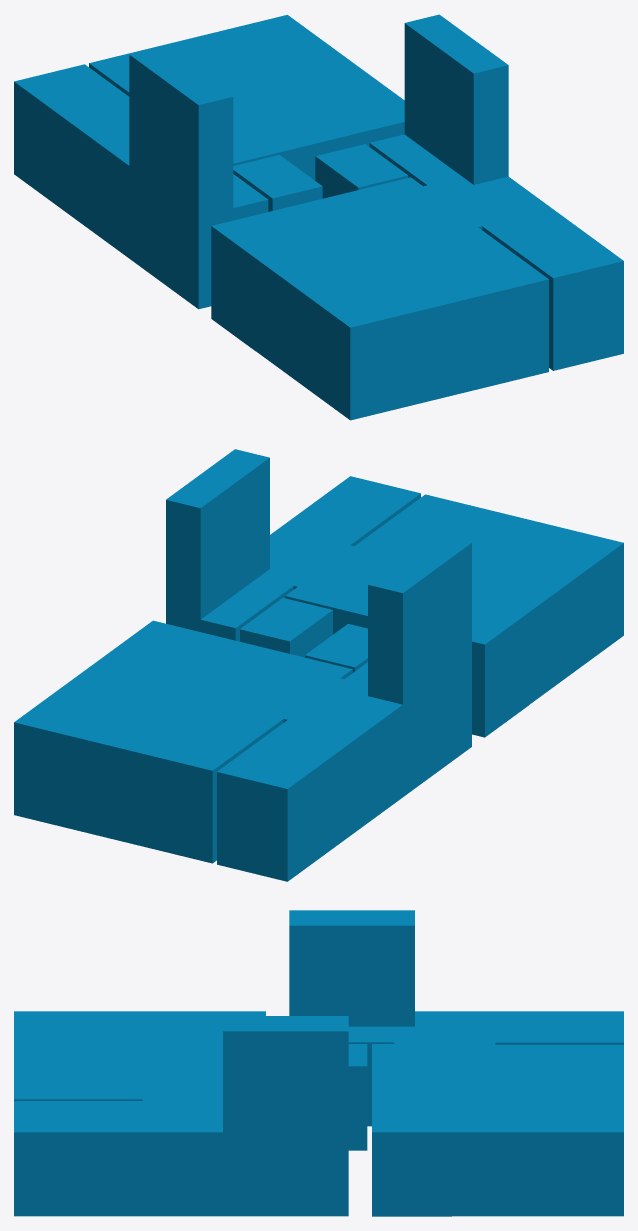
The model's file is Duplex_Level_1_IfcSpace.dae.
The picture shows the model from 3 angles, top to bottom: view 1: azimuth 30°, elevation 25°; view 2: azimuth 150°, elevation 25°; view 3: azimuth 270°, elevation 25°; orthographic projection. The views are drawn at different scales.
Parts seen in each view (by area): view 1: 0BTBFw6f90Nfh9rP1dlXr2, 10mjSDZJj9gPS2PrQaxa4o, 0BTBFw6f90Nfh9rP1dlXrr, 0BTBFw6f90Nfh9rP1dl_3Q, 10mjSDZJj9gPS2PrQaxa3z, 0BTBFw6f90Nfh9rP1dl_CZ, 0BTBFw6f90Nfh9rP1dlXr$, 0BTBFw6f90Nfh9rP1dl_3S, 0BTBFw6f90Nfh9rP1dlXru, 0BTBFw6f90Nfh9rP1dl_3P; view 2: 0BTBFw6f90Nfh9rP1dl_CZ, 0BTBFw6f90Nfh9rP1dl_3Q, 0BTBFw6f90Nfh9rP1dlXr2, 10mjSDZJj9gPS2PrQaxa4o, 10mjSDZJj9gPS2PrQaxa3z, 0BTBFw6f90Nfh9rP1dlXrr, 0BTBFw6f90Nfh9rP1dlXr$, 0BTBFw6f90Nfh9rP1dl_3S, 0BTBFw6f90Nfh9rP1dlXru, 0BTBFw6f90Nfh9rP1dl_3P; view 3: 0BTBFw6f90Nfh9rP1dl_CZ, 10mjSDZJj9gPS2PrQaxa3z, 0BTBFw6f90Nfh9rP1dlXrr, 0BTBFw6f90Nfh9rP1dlXr2, 10mjSDZJj9gPS2PrQaxa4o, 0BTBFw6f90Nfh9rP1dl_3S, 0BTBFw6f90Nfh9rP1dl_3Q, 0BTBFw6f90Nfh9rP1dlXr$, 0BTBFw6f90Nfh9rP1dl_3P.
Boxes of the visible parts, box(x1,y1,x2,y2) form: 0BTBFw6f90Nfh9rP1dlXr2: box(255, 210, 548, 420); 10mjSDZJj9gPS2PrQaxa4o: box(124, 46, 233, 309); 0BTBFw6f90Nfh9rP1dlXrr: box(369, 134, 623, 370); 0BTBFw6f90Nfh9rP1dl_3Q: box(14, 64, 268, 254); 10mjSDZJj9gPS2PrQaxa3z: box(404, 14, 513, 188); 0BTBFw6f90Nfh9rP1dl_CZ: box(89, 15, 381, 120); 0BTBFw6f90Nfh9rP1dlXr$: box(211, 177, 454, 350); 0BTBFw6f90Nfh9rP1dl_3S: box(233, 84, 404, 180); 0BTBFw6f90Nfh9rP1dlXru: box(315, 144, 408, 198); 0BTBFw6f90Nfh9rP1dl_3P: box(233, 155, 322, 211); 0BTBFw6f90Nfh9rP1dl_CZ: box(14, 653, 306, 863); 0BTBFw6f90Nfh9rP1dl_3Q: box(217, 662, 397, 881); 0BTBFw6f90Nfh9rP1dlXr2: box(331, 494, 623, 704); 10mjSDZJj9gPS2PrQaxa4o: box(363, 534, 471, 800); 10mjSDZJj9gPS2PrQaxa3z: box(166, 449, 274, 631); 0BTBFw6f90Nfh9rP1dlXrr: box(200, 476, 420, 641); 0BTBFw6f90Nfh9rP1dlXr$: box(285, 563, 528, 737); 0BTBFw6f90Nfh9rP1dl_3S: box(109, 620, 352, 701); 0BTBFw6f90Nfh9rP1dlXru: box(240, 598, 332, 657); 0BTBFw6f90Nfh9rP1dl_3P: box(305, 624, 367, 672); 0BTBFw6f90Nfh9rP1dl_CZ: box(452, 1044, 623, 1216); 10mjSDZJj9gPS2PrQaxa3z: box(214, 1016, 348, 1216); 0BTBFw6f90Nfh9rP1dlXrr: box(14, 1099, 222, 1216); 0BTBFw6f90Nfh9rP1dlXr2: box(14, 1011, 185, 1100); 10mjSDZJj9gPS2PrQaxa4o: box(289, 910, 423, 1026); 0BTBFw6f90Nfh9rP1dl_3S: box(372, 1044, 451, 1216); 0BTBFw6f90Nfh9rP1dl_3Q: box(348, 1011, 623, 1126); 0BTBFw6f90Nfh9rP1dlXr$: box(186, 1011, 265, 1099); 0BTBFw6f90Nfh9rP1dl_3P: box(348, 1044, 367, 1150).
Bounding box in the file's own units: 7.97 × 16.97 × 5.69.
